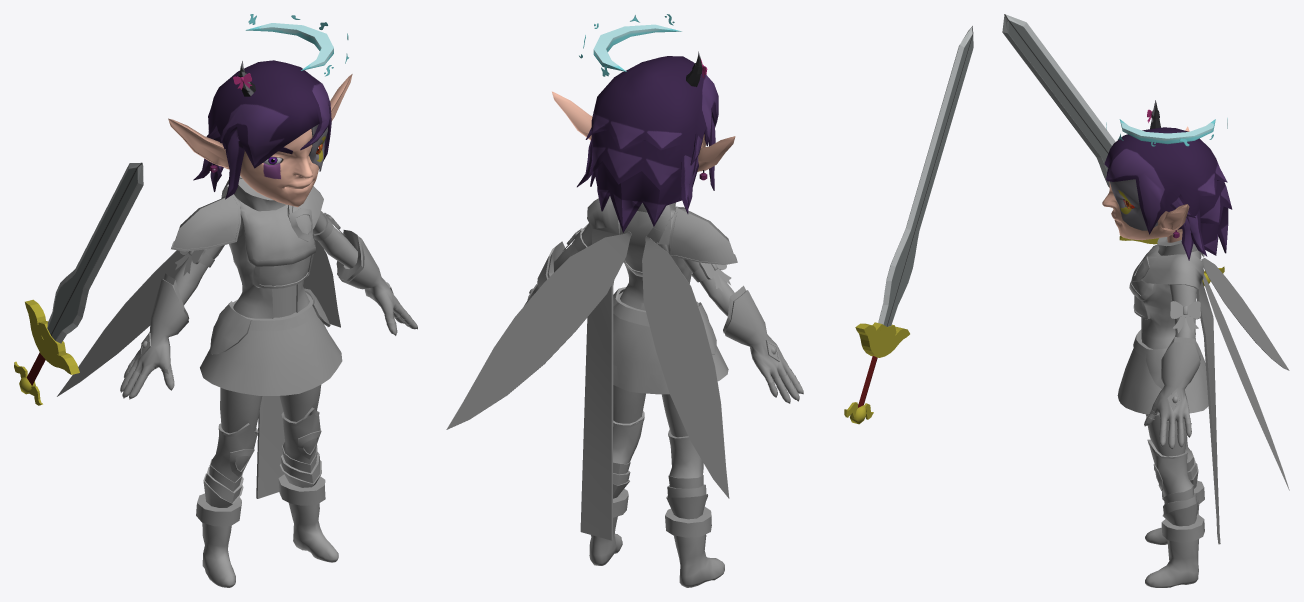
File: Esméralda.FBX
The picture shows the model from 3 angles, left to right: view 1: azimuth 30°, elevation 25°; view 2: azimuth 150°, elevation 25°; view 3: azimuth 270°, elevation 25°; orthographic projection. The views are drawn at different scales.
Parts seen in each view (by area): view 1: Esméralda, Sword; view 2: Esméralda, Sword; view 3: Esméralda, Sword.
Part boxes in pixels (bbox=[...]): Esméralda: bbox=[57, 14, 417, 587]; Sword: bbox=[14, 162, 143, 405]; Esméralda: bbox=[446, 14, 803, 587]; Sword: bbox=[844, 26, 973, 424]; Esméralda: bbox=[1102, 100, 1289, 587]; Sword: bbox=[1002, 14, 1224, 286].
Bounding box in the file's own units: 171 × 230 × 131.
